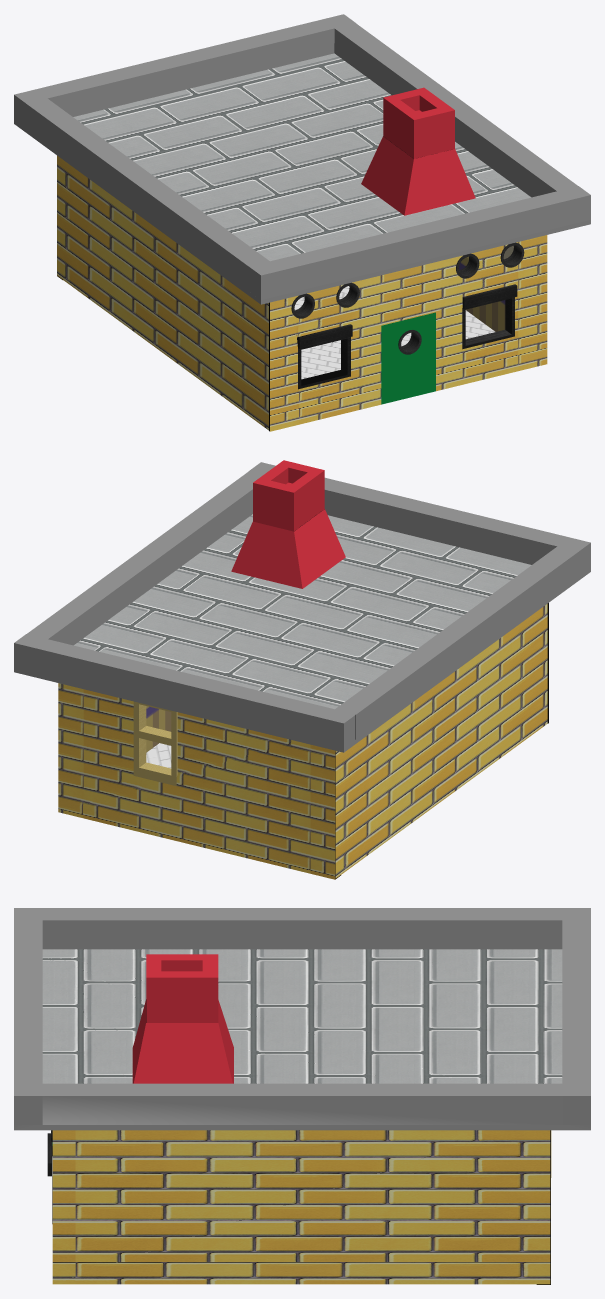
The model's file is Lab3.obj.
3 renders of one model, top to bottom at view 1: azimuth 30°, elevation 25°; view 2: azimuth 150°, elevation 25°; view 3: azimuth 270°, elevation 25°, orthographic. The views are drawn at different scales.
Visible parts, largest first — view 1: oak_lab:oak_lab8:oak_lab:oak_lab:polySurface6; view 2: oak_lab:oak_lab8:oak_lab:oak_lab:polySurface6; view 3: oak_lab:oak_lab8:oak_lab:oak_lab:polySurface6.
Boxes of the visible parts, box(x1,y1,x2,y2) form: oak_lab:oak_lab8:oak_lab:oak_lab:polySurface6: box(14, 14, 590, 431); oak_lab:oak_lab8:oak_lab:oak_lab:polySurface6: box(14, 460, 590, 879); oak_lab:oak_lab8:oak_lab:oak_lab:polySurface6: box(14, 908, 590, 1284).
Bounding box in the file's own units: 28.74 × 19.79 × 37.27.
